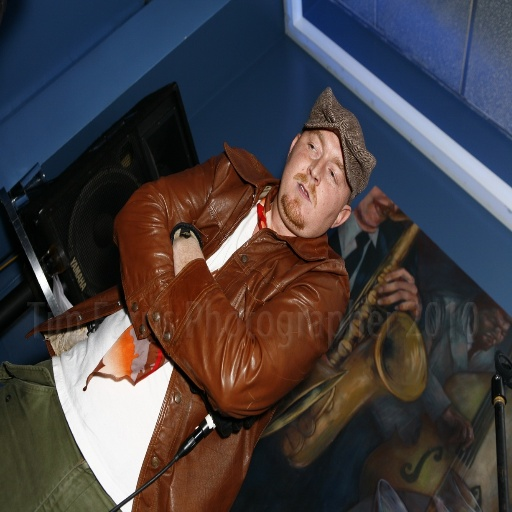hand: (374, 264, 423, 323), (362, 186, 401, 232), (437, 409, 476, 455), (172, 226, 200, 242)
